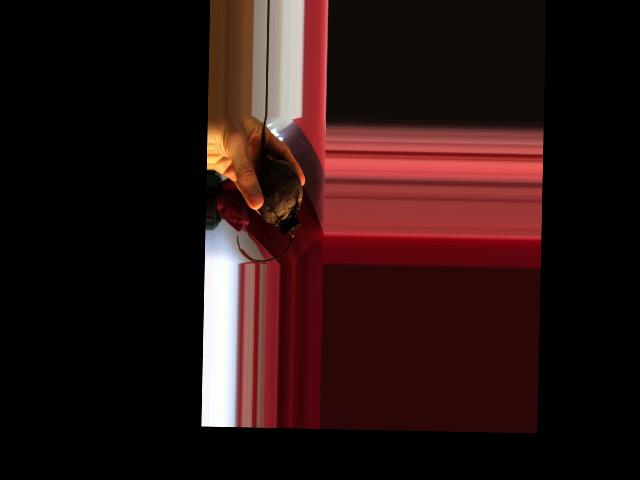beet: (236, 115, 304, 263)
